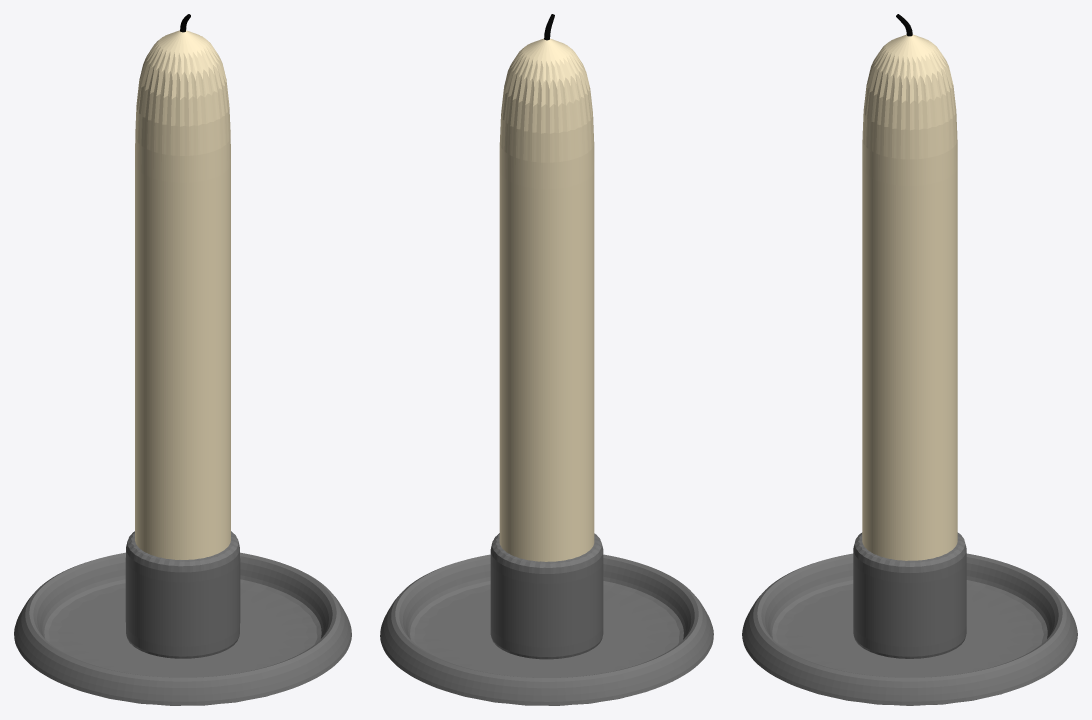
Rendered from lys.fbx.
3 renders of one model, left to right at view 1: azimuth 30°, elevation 25°; view 2: azimuth 150°, elevation 25°; view 3: azimuth 270°, elevation 25°, orthographic.
Parts seen in each view (by area): view 1: Cylinder, Cylinder.001, Cylinder.002; view 2: Cylinder, Cylinder.001, Cylinder.002; view 3: Cylinder, Cylinder.001, Cylinder.002.
Part boxes in pixels (box(x1,y1,x2,y2)): Cylinder: box(135, 30, 230, 559); Cylinder.001: box(14, 552, 351, 705); Cylinder.002: box(125, 531, 240, 658); Cylinder: box(499, 38, 594, 561); Cylinder.001: box(380, 554, 713, 705); Cylinder.002: box(490, 533, 603, 659); Cylinder: box(862, 34, 957, 560); Cylinder.001: box(742, 553, 1077, 705); Cylinder.002: box(853, 532, 966, 658).
Bounding box in the file's own units: 225 × 465 × 225.
